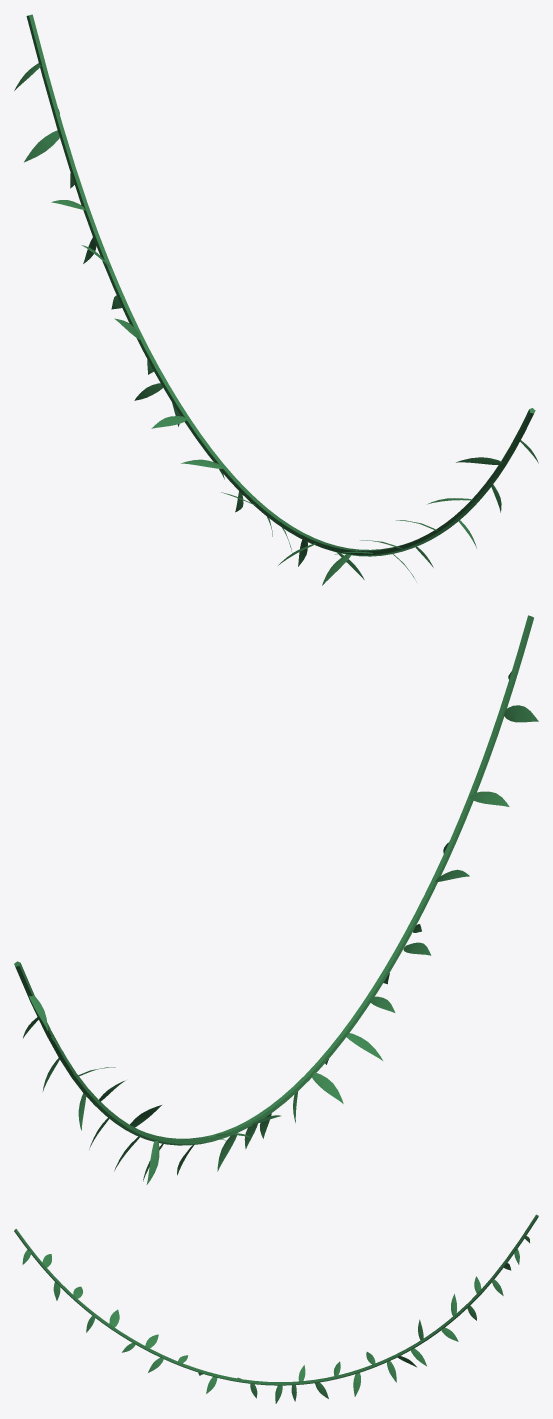
The model's file is vine_hori_C_scanden.fbx.
3 views of the same model, one above another, from view 1: azimuth 30°, elevation 25°; view 2: azimuth 150°, elevation 25°; view 3: azimuth 270°, elevation 25° (orthographic). The views are drawn at different scales.
Visible parts, largest first — view 1: vine_hori_C_scanden_root; view 2: vine_hori_C_scanden_root; view 3: vine_hori_C_scanden_root.
Part boxes in pixels (<box>): vine_hori_C_scanden_root: <box>26,14,535,556</box>; vine_hori_C_scanden_root: <box>14,615,533,1145</box>; vine_hori_C_scanden_root: <box>14,1214,538,1385</box>.
Bounding box in the file's own units: 33.61 × 186 × 474.
